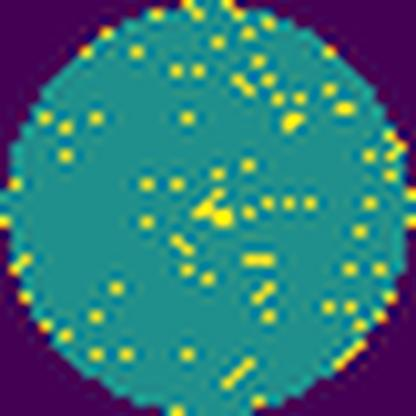Center: (187, 181, 241, 231)
